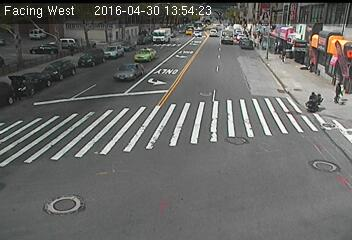neg: (303, 87, 327, 119)
pos: (331, 78, 350, 103)
